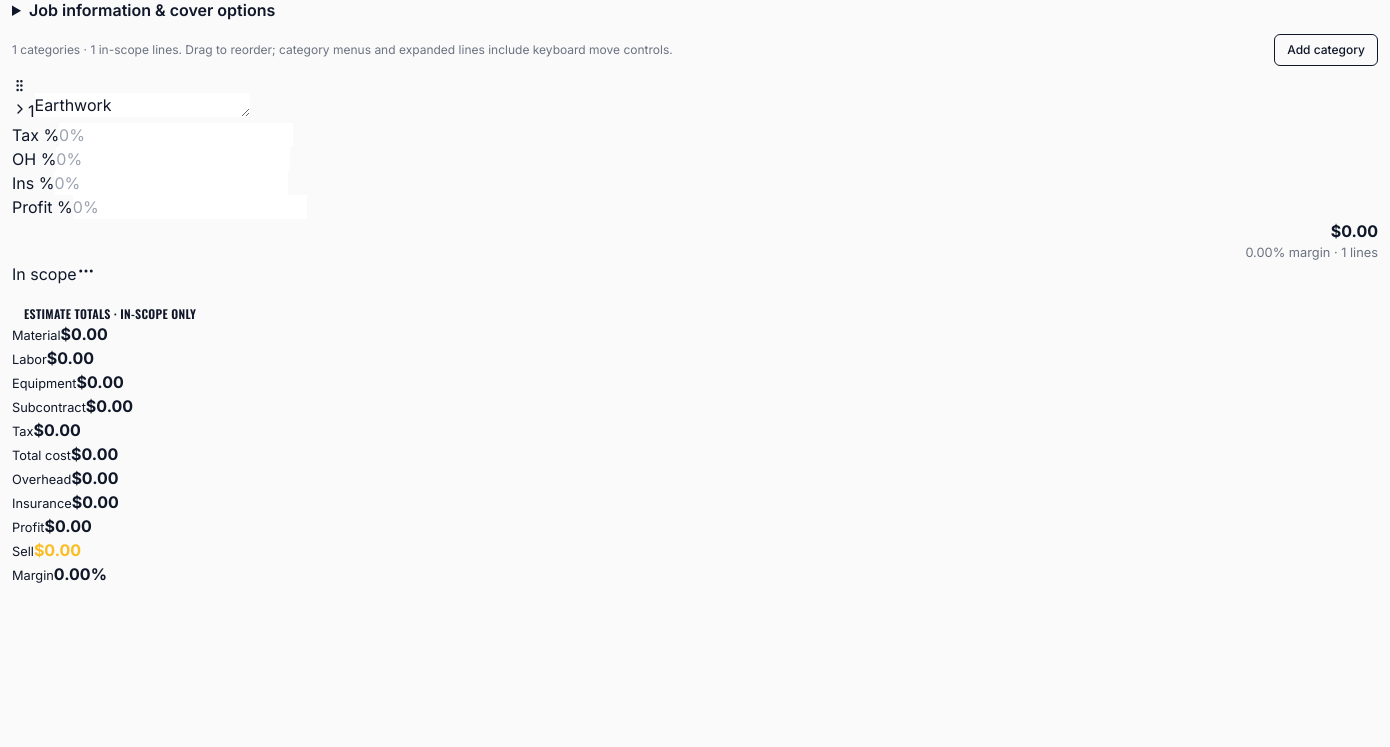
Test: Practical takeoff editing › edits inline unit price, resets it, toggles scope and opens duplicated lines
This screenshot has width=1390, height=747.
Click the button named "Expand category Earthwork": (20, 109) [12, 101, 28, 117]
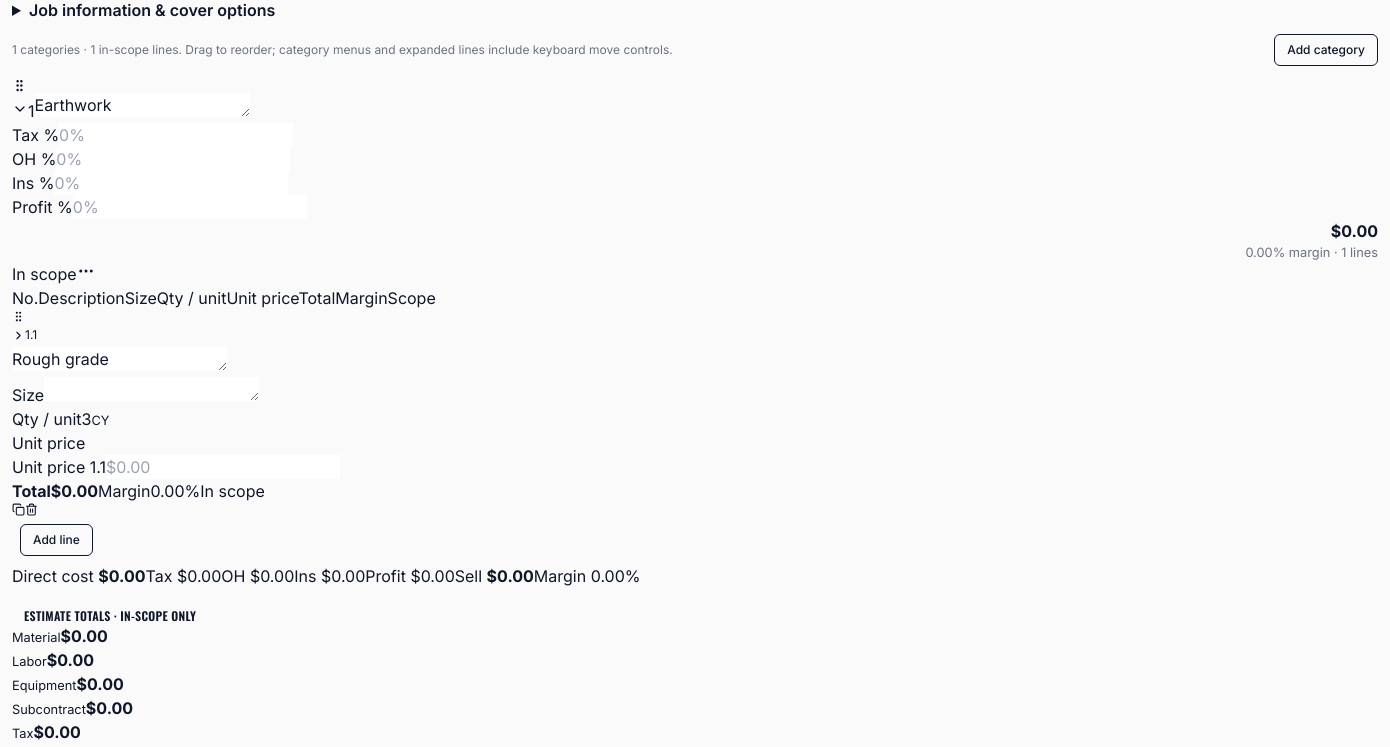
In the field labelled "Unit price 1.1": (223, 467) [106, 455, 340, 479], type "17.25"
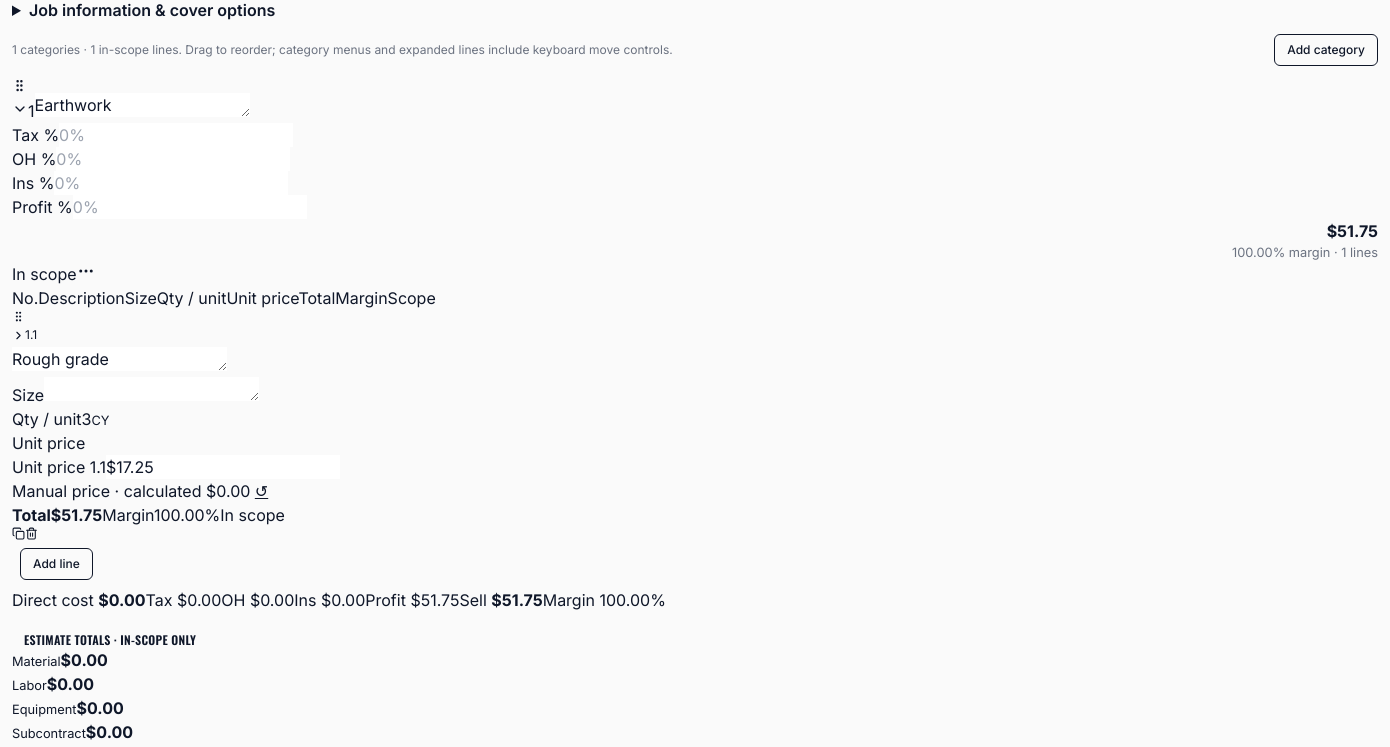
Result: the text "Manual price · calculated $0.00" is shown at [12, 479, 268, 503]
Result: the 1st text "$51.75" is shown at [1327, 221, 1378, 241]
Click the button named "Reset Unit price 1.1 to calculated": (262, 491) [255, 479, 268, 503]
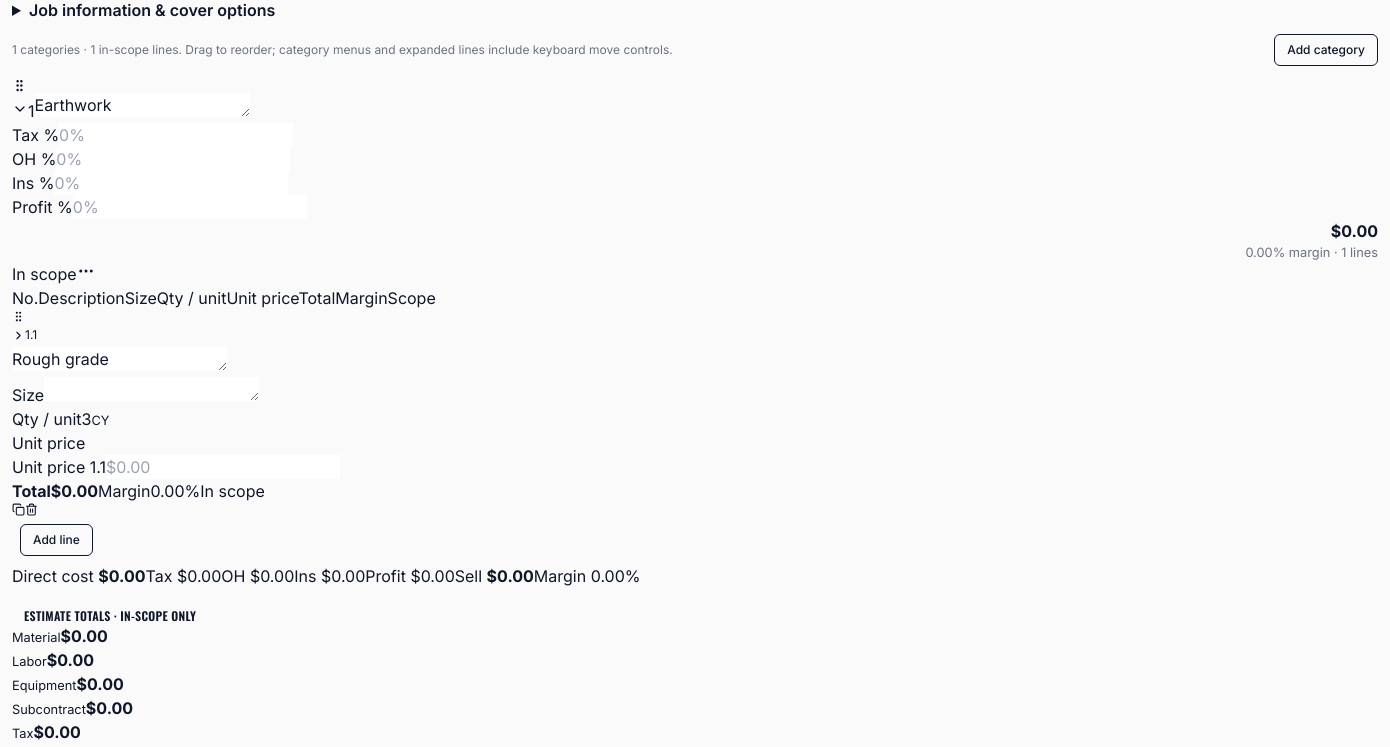
Result: the field labelled "Unit price 1.1" is empty at [106, 455, 340, 479]
Click the button with aria-label "Exclude line 1.1": (232, 491) [200, 479, 265, 503]
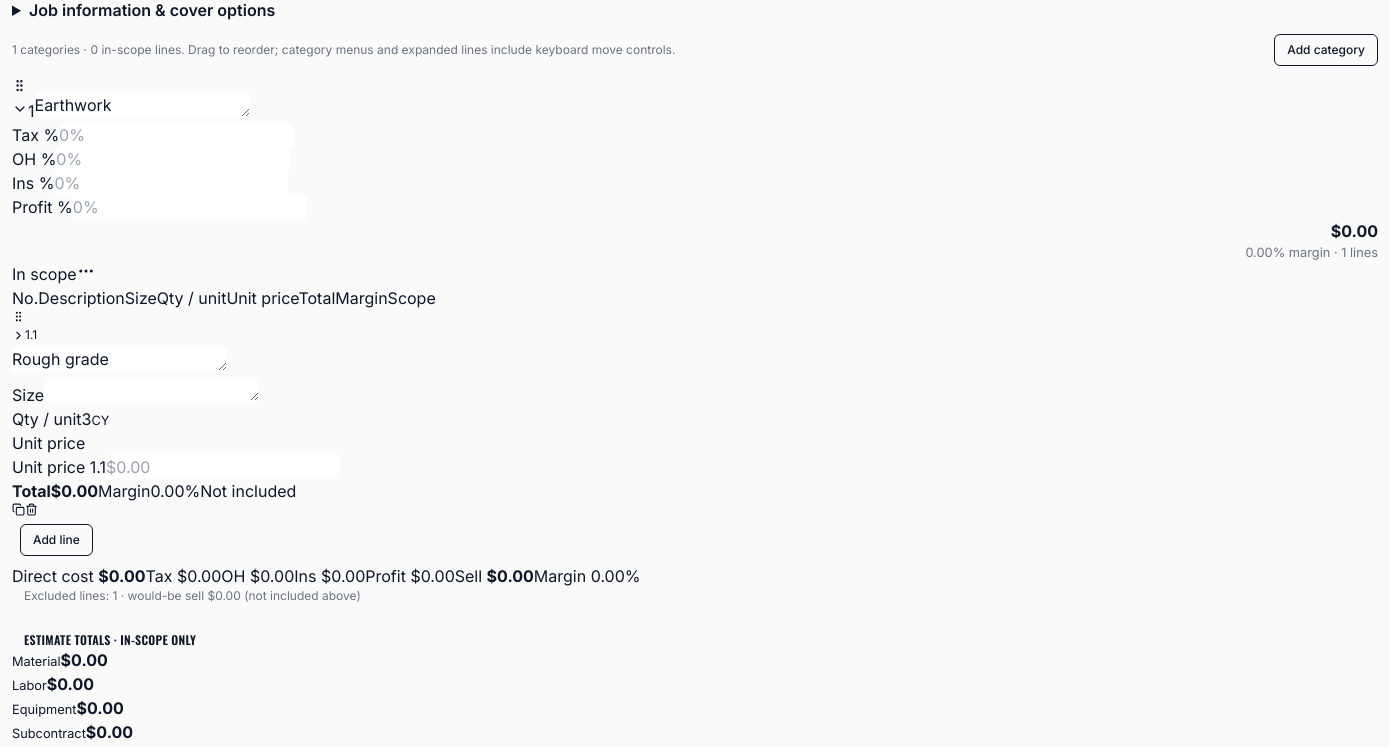
Result: the button with aria-label "Exclude line 1.1" is pressed at [200, 479, 296, 503]
Click the button named "Duplicate line 1.1": (18, 510) [12, 503, 25, 516]
(page scrolled)
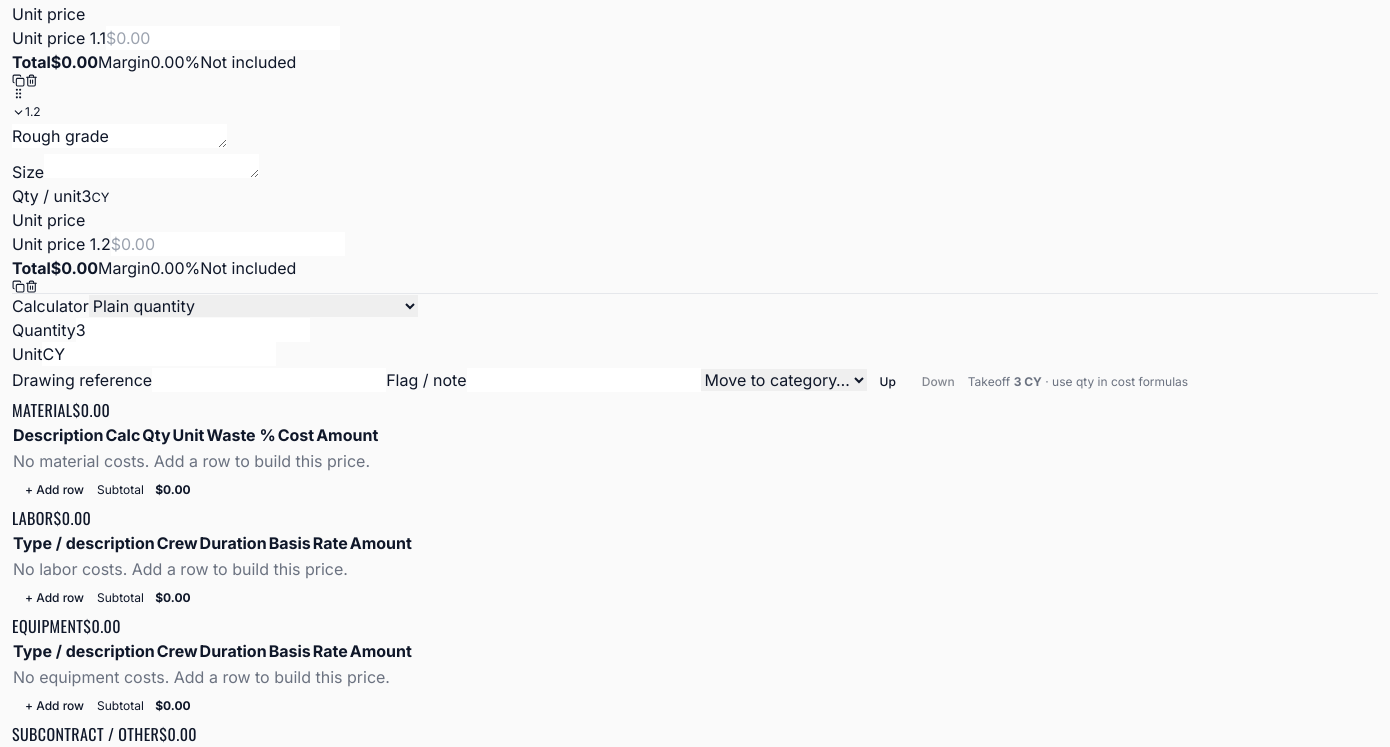
Result: the button named "Collapse line 1.2" is shown at [12, 100, 41, 124]
Result: the button "Up" is shown at [866, 366, 909, 398]
